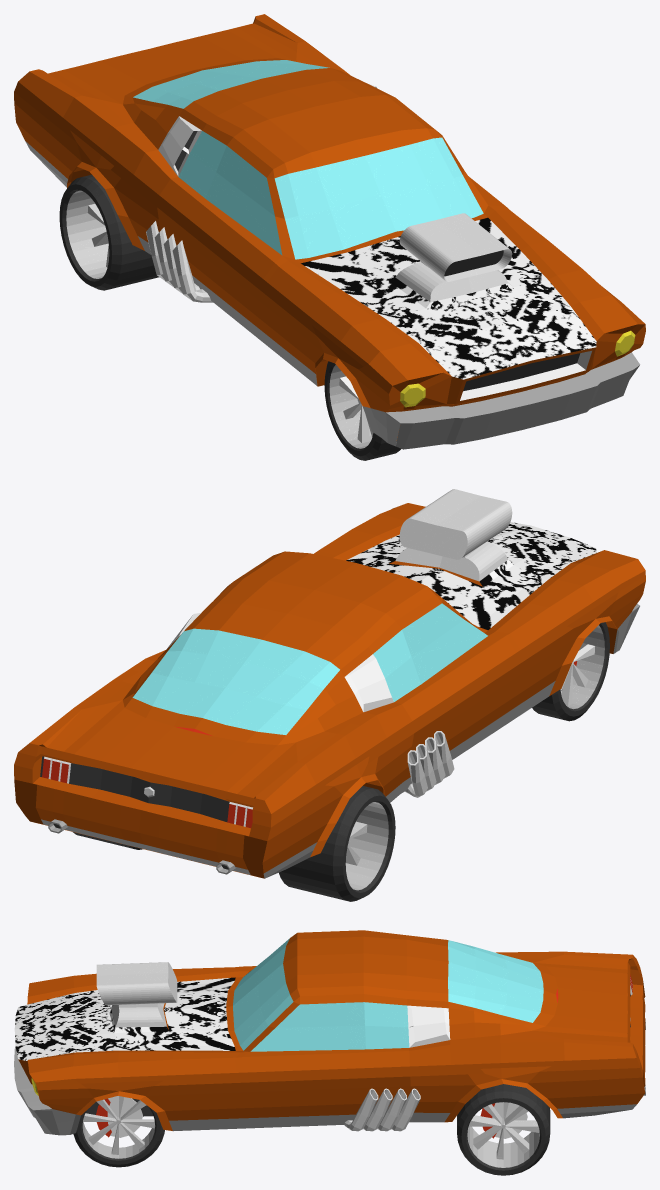
Rendered from MustangTuring.glb.
3 views of the same model, one above another, from view 1: azimuth 30°, elevation 25°; view 2: azimuth 150°, elevation 25°; view 3: azimuth 270°, elevation 25° (orthographic). The views are drawn at different scales.
Parts seen in each view (by area): view 1: Circle, Circle.003, Circle.004; view 2: Circle, Circle.003, Circle.004; view 3: Circle, Circle.002, Circle.001.
Part boxes in pixels (x1,y1,x2,y2): Circle: [14, 14, 645, 449]; Circle.003: [59, 174, 159, 290]; Circle.004: [324, 361, 400, 460]; Circle: [14, 489, 645, 878]; Circle.003: [279, 786, 395, 901]; Circle.004: [532, 622, 609, 721]; Circle: [14, 930, 645, 1138]; Circle.002: [457, 1084, 550, 1175]; Circle.001: [73, 1096, 164, 1167].
Bounding box in the file's own units: 1.4 × 0.9942 × 3.36.
2 materials, 2 textured.
